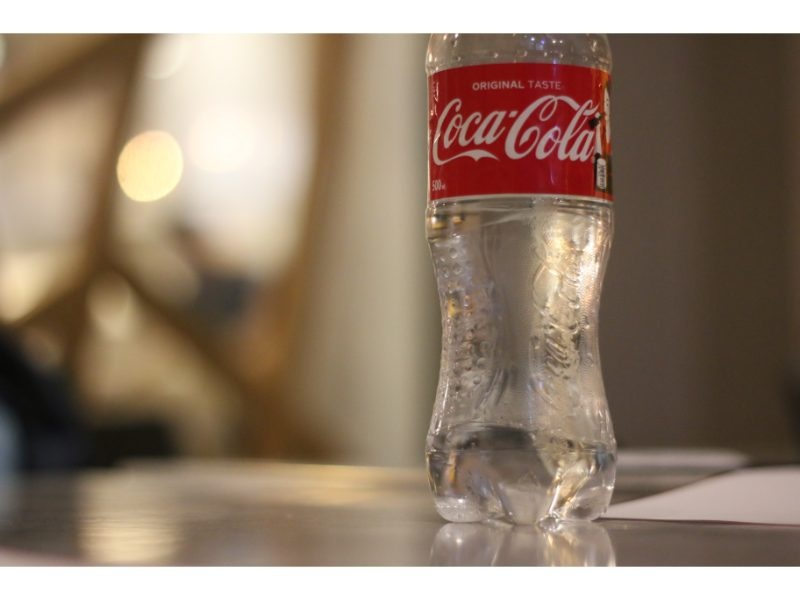PET #1: (422, 34, 621, 531)
